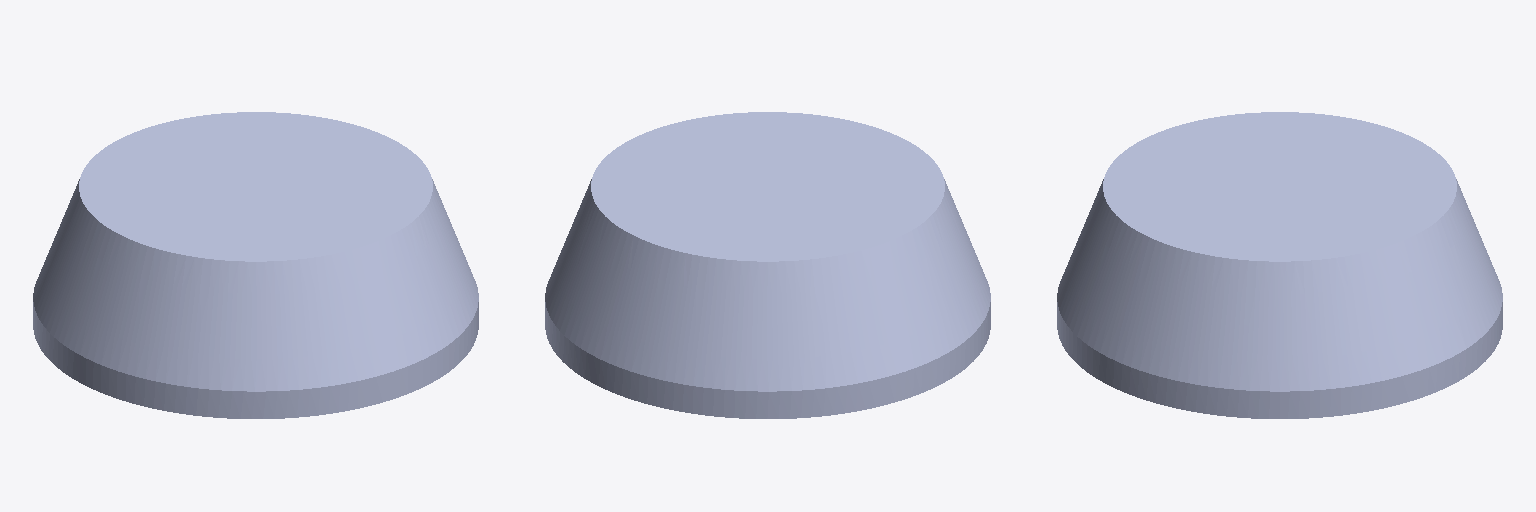
3 views of the same model, side by side, from view 1: azimuth 30°, elevation 25°; view 2: azimuth 150°, elevation 25°; view 3: azimuth 270°, elevation 25° (orthographic).
Parts seen in each view (by area): view 1: [number redacted]; view 2: [number redacted]; view 3: [number redacted].
Boxes of the visible parts, box(x1,y1,x2,y2) form: [number redacted]: box(33, 112, 478, 418); [number redacted]: box(545, 112, 990, 418); [number redacted]: box(1057, 112, 1502, 418).
Size of the model in its own units: 0.6636 by 0.2272 by 0.6636.